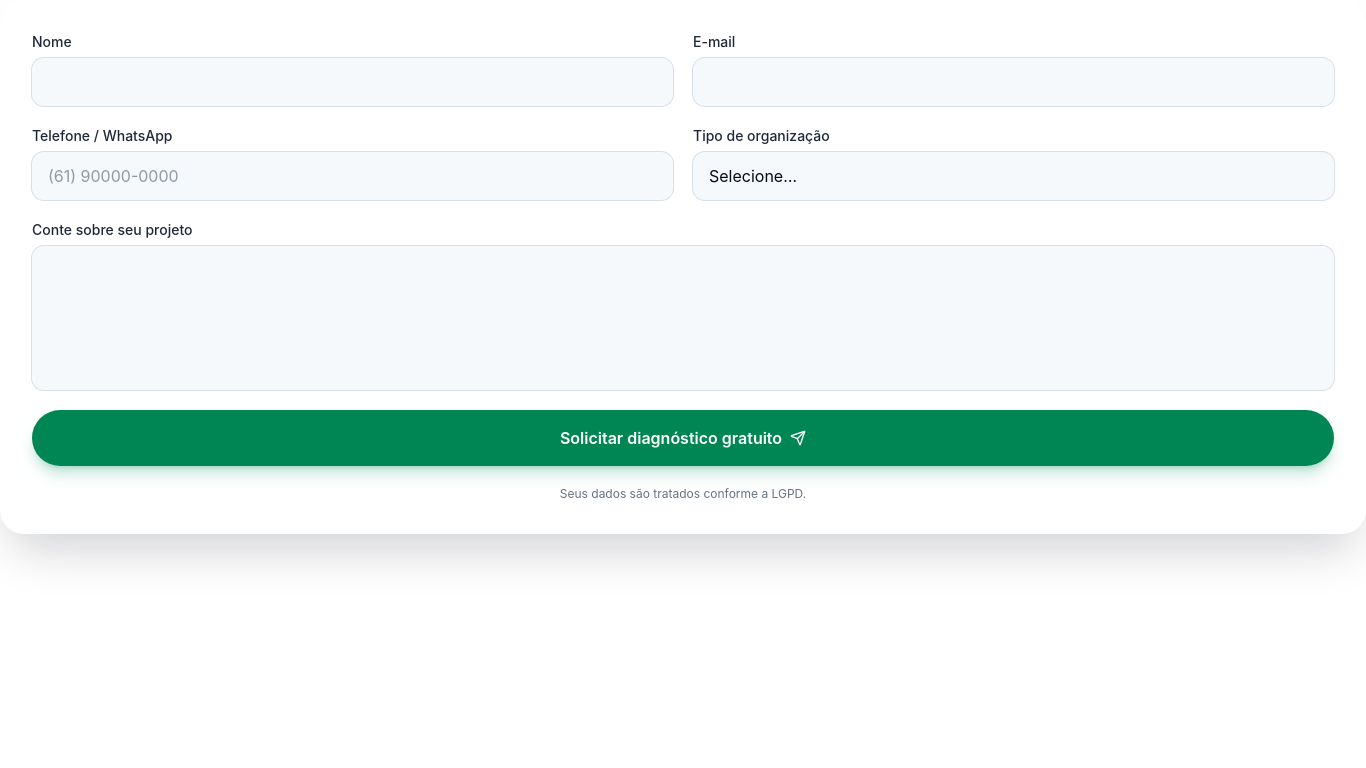
Scenario: ContactForm (integração) › exibe erros de campo vindos da action, com aria-invalid
Click the button "Solicitar diagnóstico gratuito" at (683, 438), box [32, 410, 1334, 466]
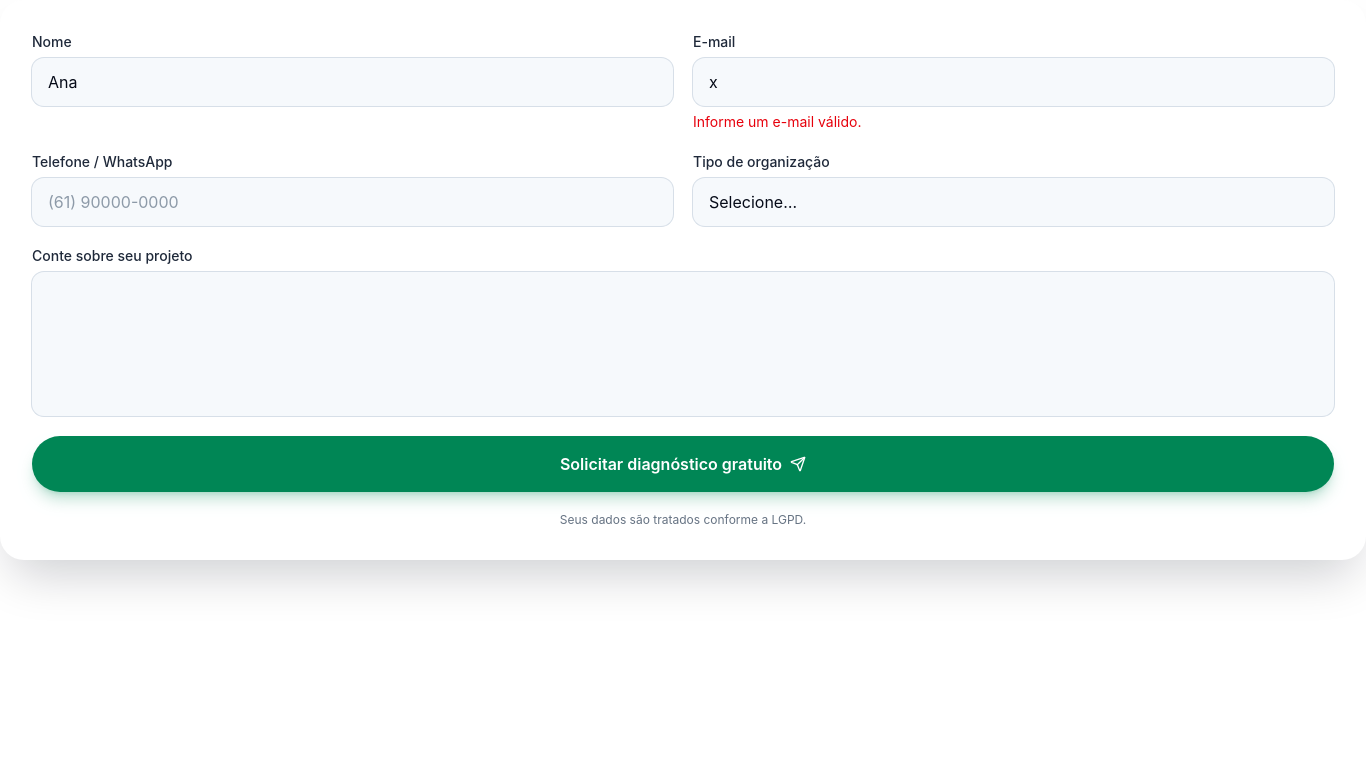
Now the text "Informe um e-mail válido." is shown, box [693, 113, 861, 130]
Now the field labelled "Nome" holds "Ana", box [32, 58, 673, 106]
